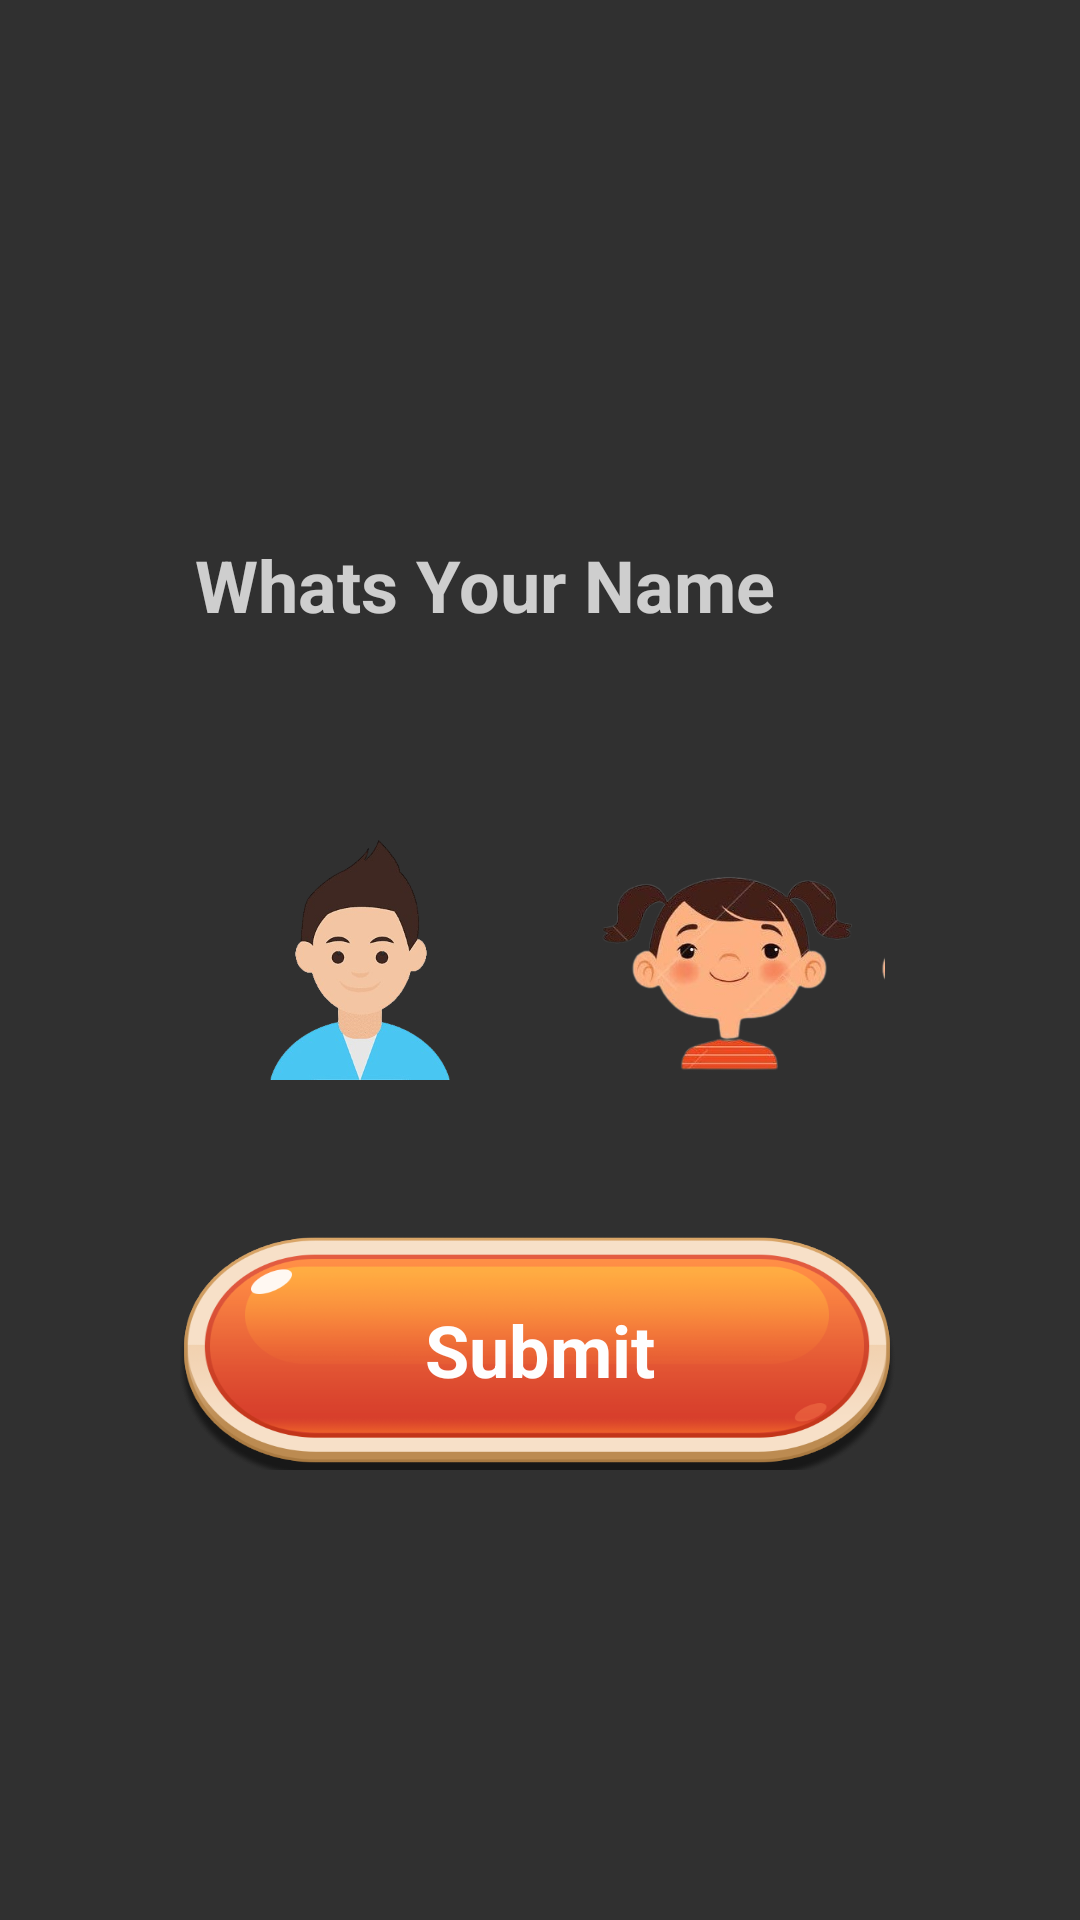

Icons on this 1080 × 1920 Android screen, each with the point to tap as (x,y):
female: (745,973)
male: (360,960)
